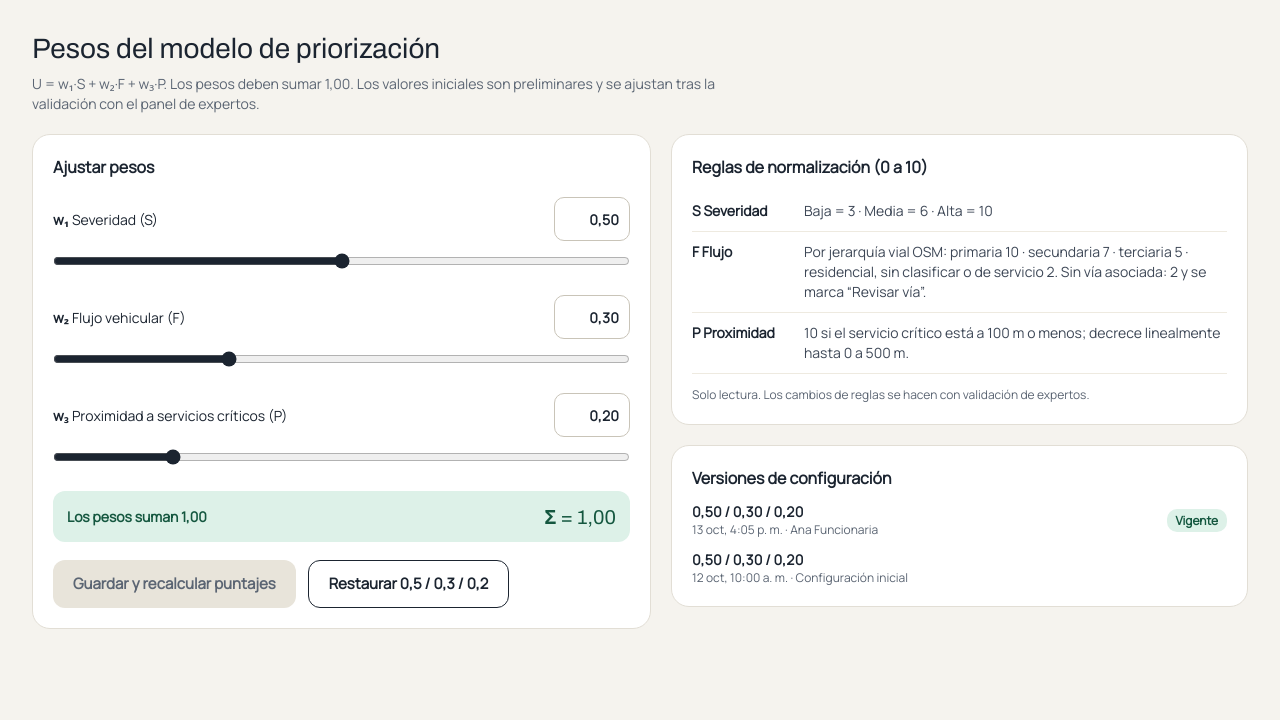
pantalla Pesos del modelo › save_sends_base_version_and_shows_recalculated_count
Replace the text in the field labelled "w₁ Severidad (S)" with "0,6": (592, 219) [554,197,630,241]
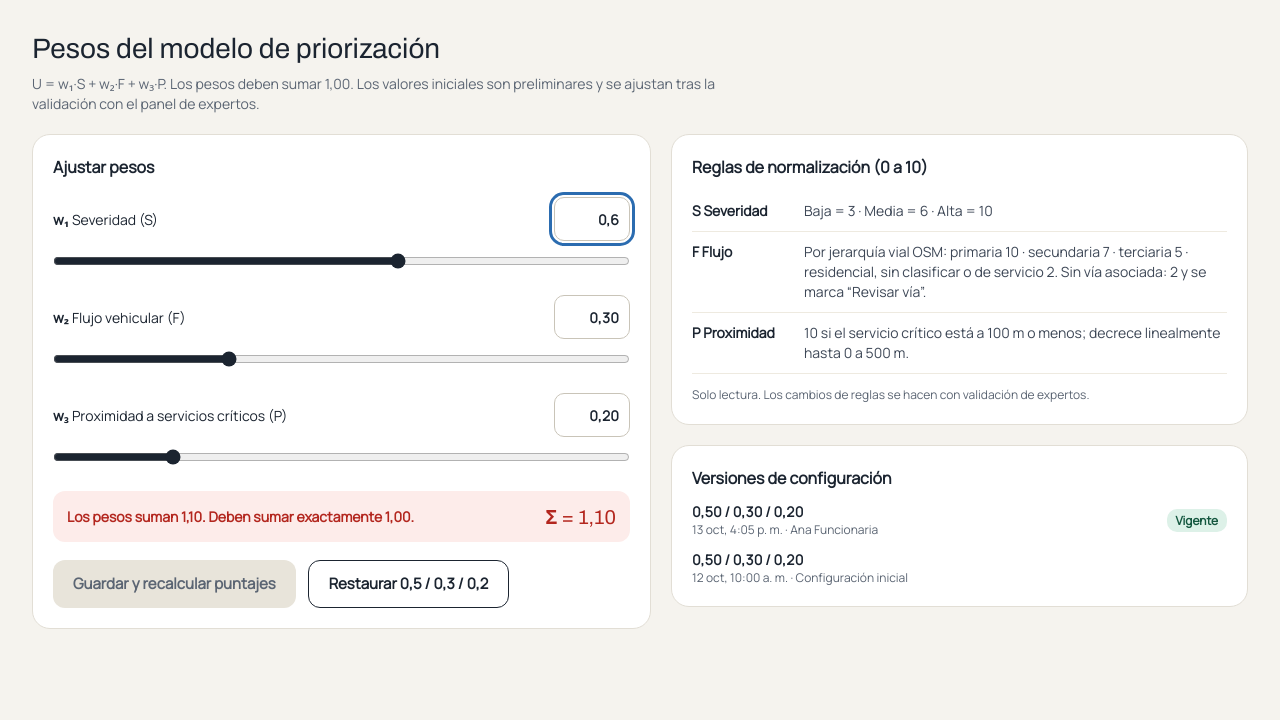
Replace the text in the field labelled "w₃ Proximidad a servicios críticos (P)" with "0,1": (592, 415) [554,393,630,437]
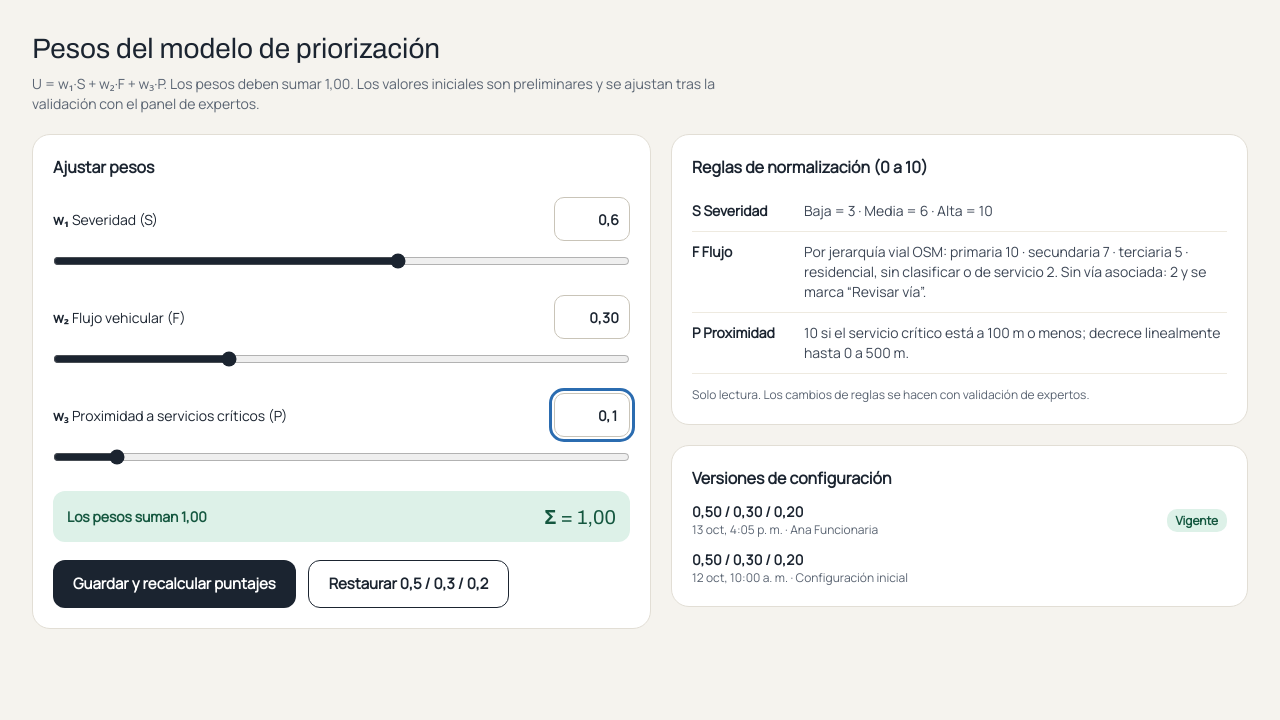
Click the button "Guardar y recalcular puntajes": (174, 584) [53,560,296,608]
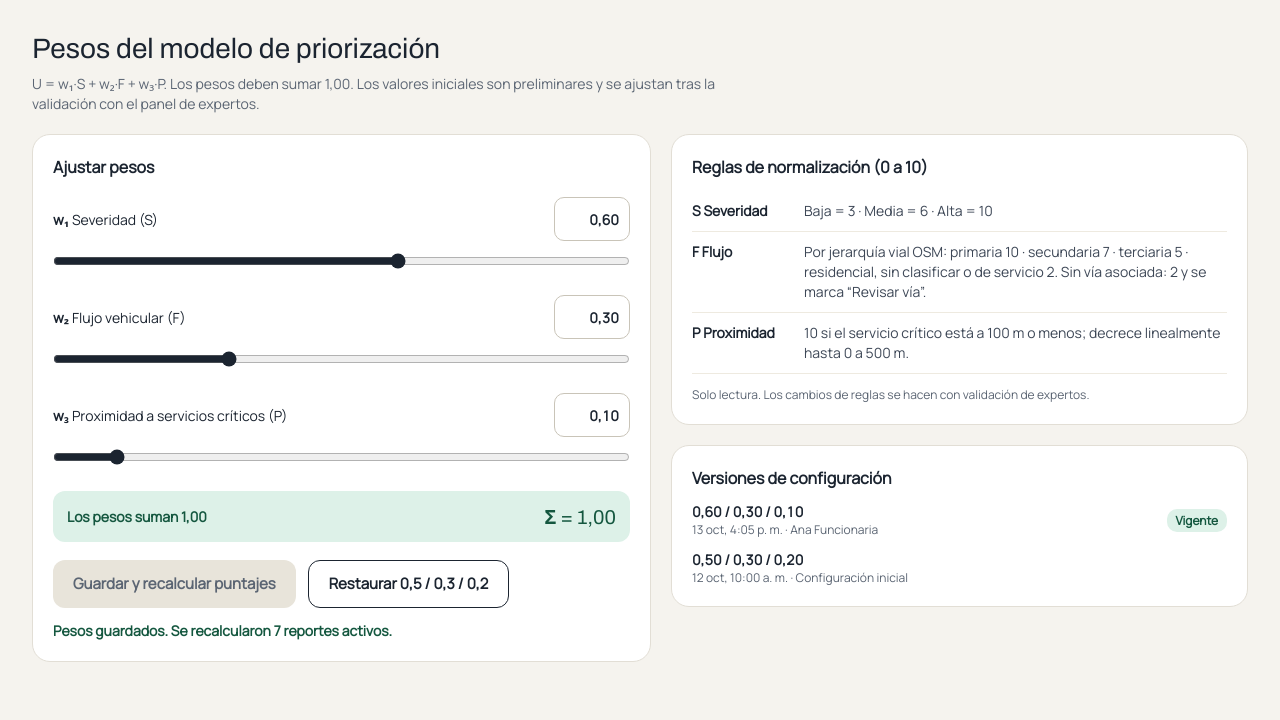
Now the message reads "Pesos guardados. Se recalcularon 7 reportes activos.", box [53,621,392,640]
Now the field labelled "w₁ Severidad (S)" holds "0,60", box [554,197,630,241]
